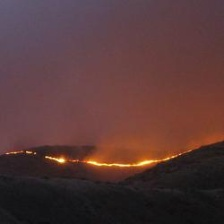fire: (42, 153, 176, 172)
